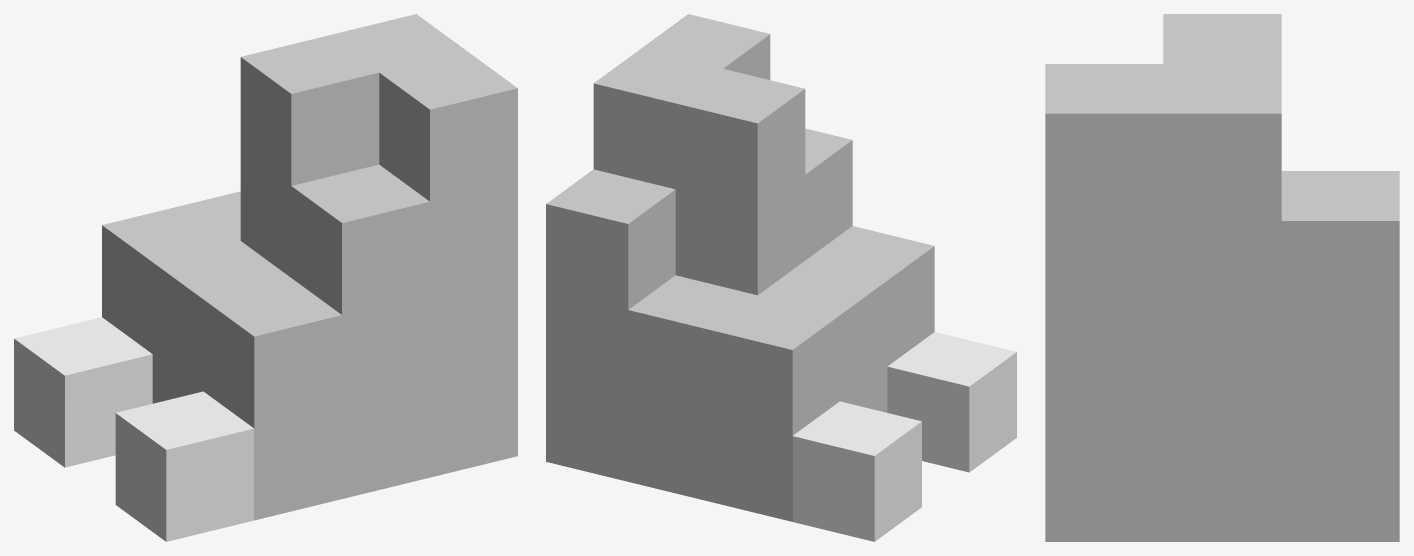
Rendered from SkelBossRightCalf.dae.
The picture shows the model from 3 angles, left to right: view 1: azimuth 30°, elevation 25°; view 2: azimuth 150°, elevation 25°; view 3: azimuth 270°, elevation 25°; orthographic projection. The views are drawn at different scales.
Parts seen in each view (by area): view 1: SkelBossRightCalf; view 2: SkelBossRightCalf; view 3: SkelBossRightCalf.
Boxes of the visible parts, x1,y1,x2,y2 form: SkelBossRightCalf: [14, 14, 517, 541]; SkelBossRightCalf: [546, 14, 1016, 541]; SkelBossRightCalf: [1045, 14, 1399, 541].
Size of the model in its own units: 0.4 by 0.3 by 0.4.
1 material, 1 textured.
